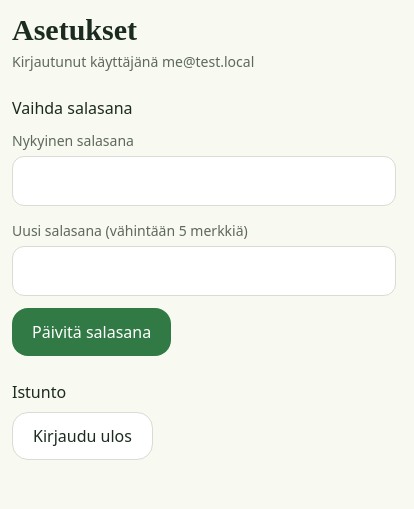
Test: Settings › changes the password and confirms success
The width and height of the screenshot is (414, 509).
Type "old-password" into the password field labelled "Nykyinen salasana" at (204, 181), box left=12, top=156, right=396, bottom=206
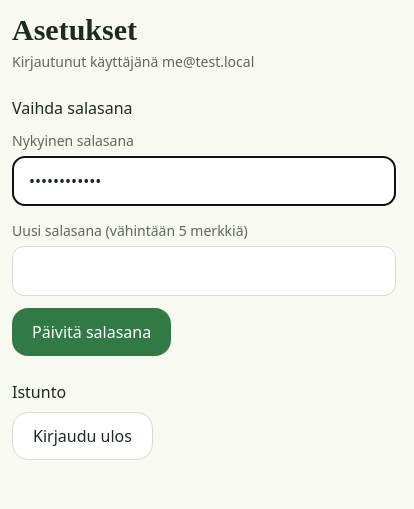
Type "new-password-xx" into the password field labelled "Uusi salasana (vähintään 5 merkkiä)" at (204, 271), box left=12, top=246, right=396, bottom=296
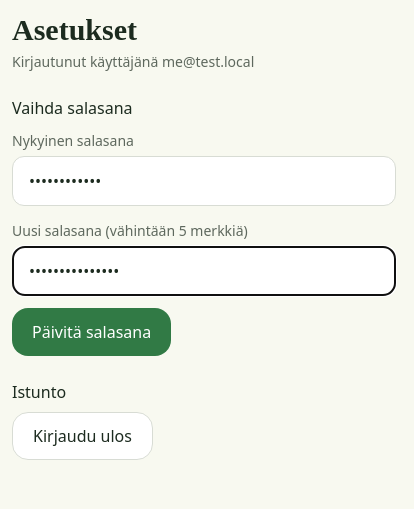
Click the button "Päivitä salasana" at (92, 332), box left=12, top=308, right=171, bottom=356
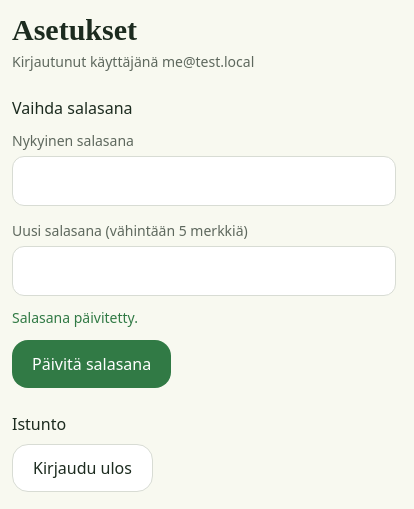
Expected: the text "Salasana päivitetty." is shown, left=12, top=308, right=138, bottom=327
